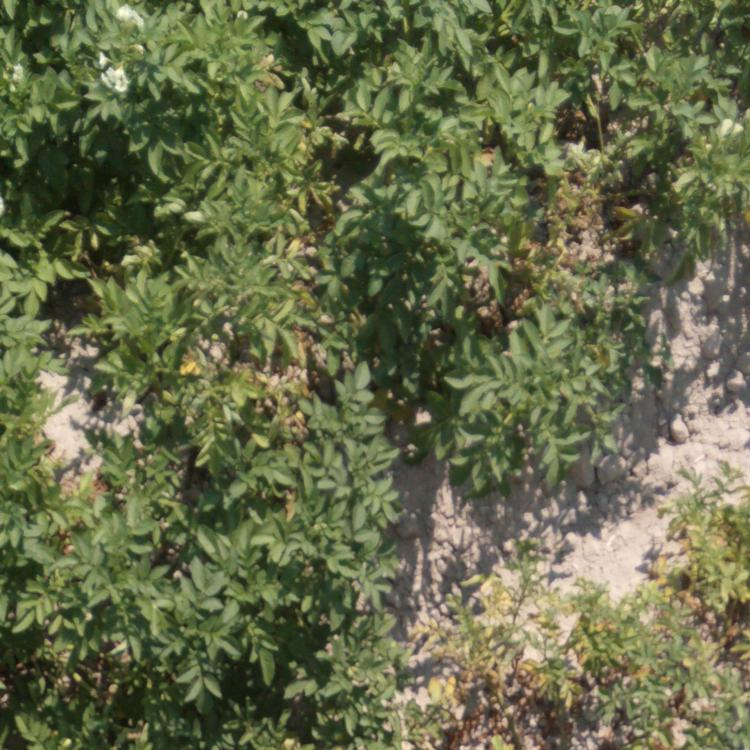healthy: (6, 372, 383, 741), (8, 1, 347, 378), (372, 1, 608, 500), (606, 4, 750, 272)
stressed: (396, 563, 671, 750), (672, 481, 750, 750)
